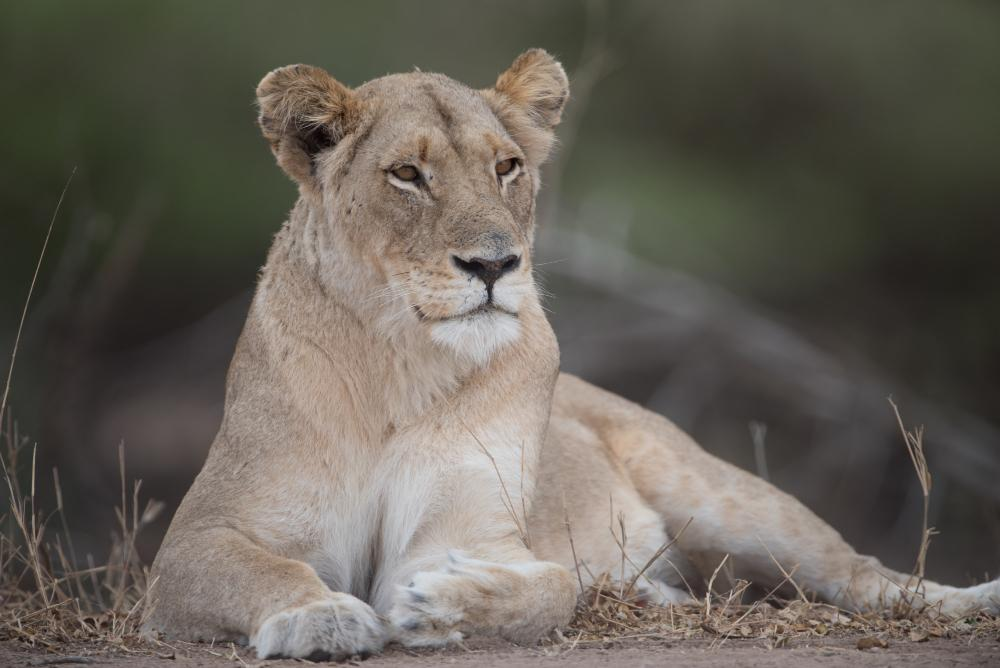lioness: (141, 50, 1000, 667)
